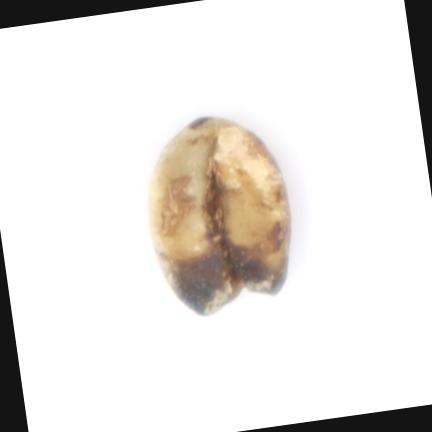partial-black: (149, 116, 290, 314)
